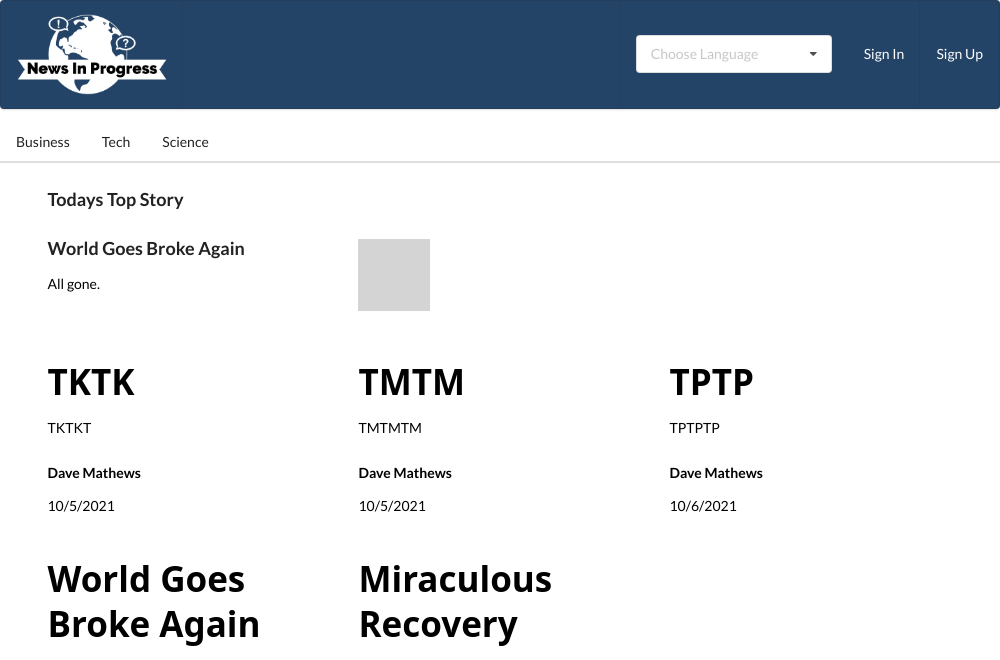
Internationalization - UI language › when the browser is set to English on render › is expected to switch to Swedish when Swedish is manually selected
Click the list with test id "language-selector".
click(734, 54)  # box [636, 35, 832, 73]
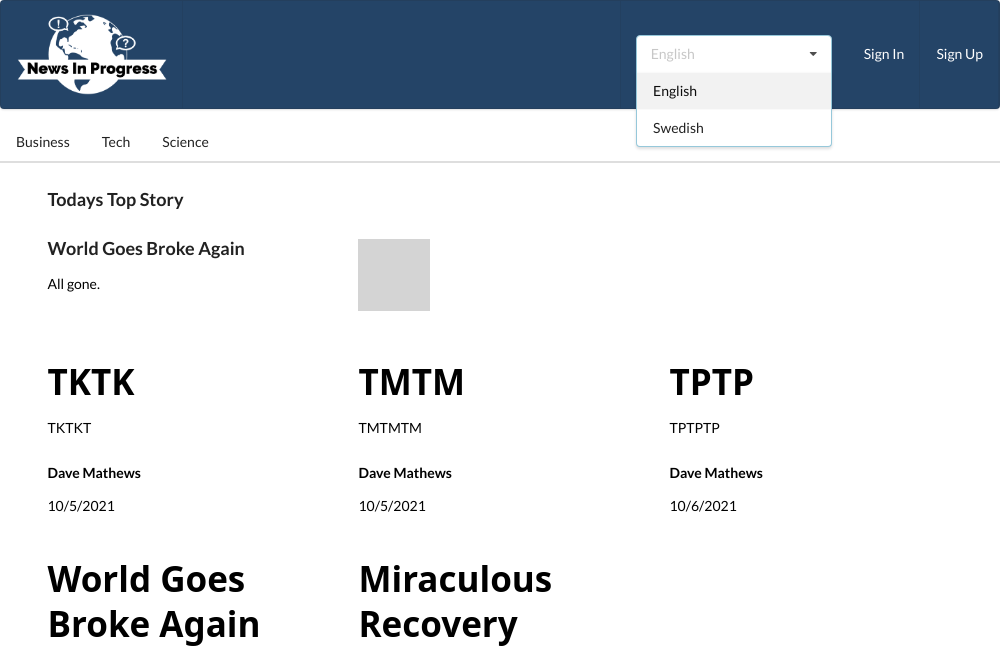
Click the text "Swedish".
click(679, 128)  # box [653, 119, 704, 136]
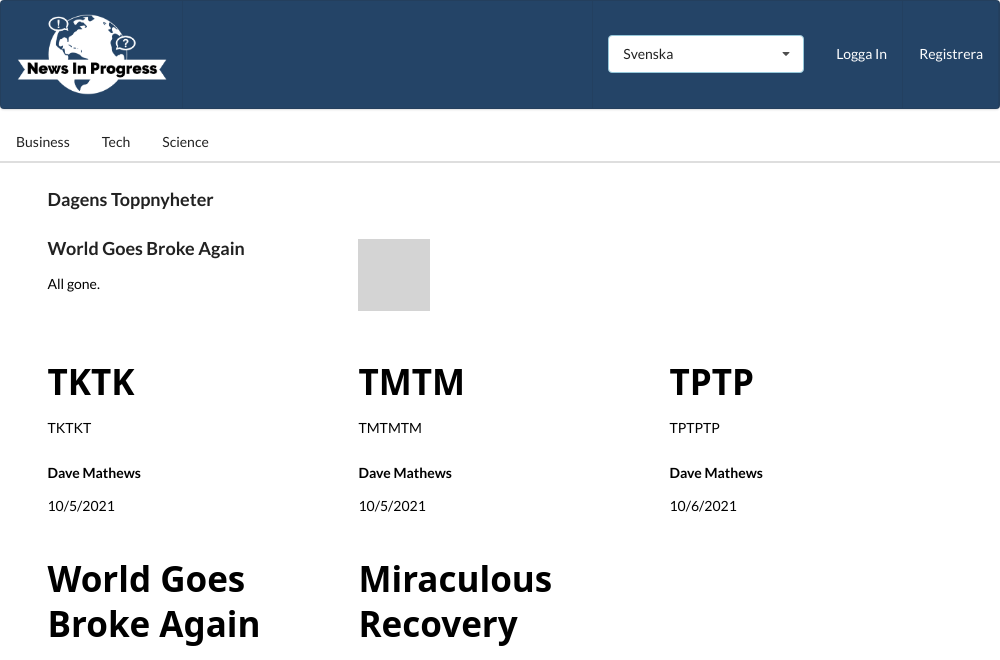
expect the list with test id "language-selector" reads "Svenska": met, box [608, 35, 804, 73]
